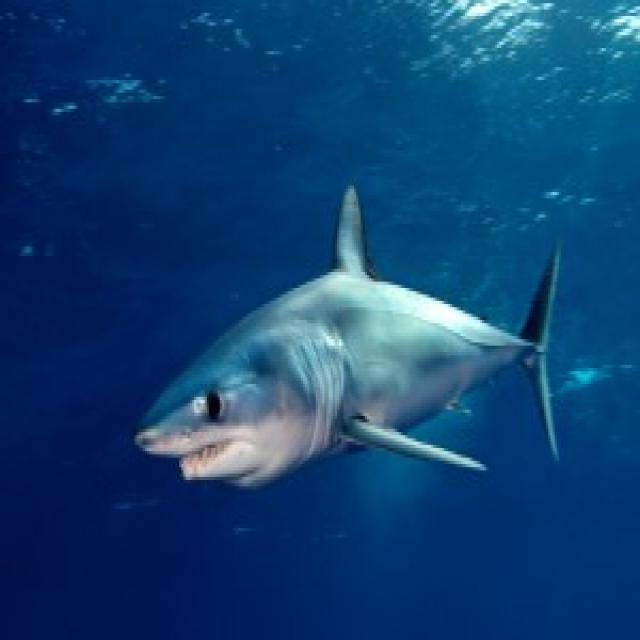Shark: (125, 179, 570, 489)
